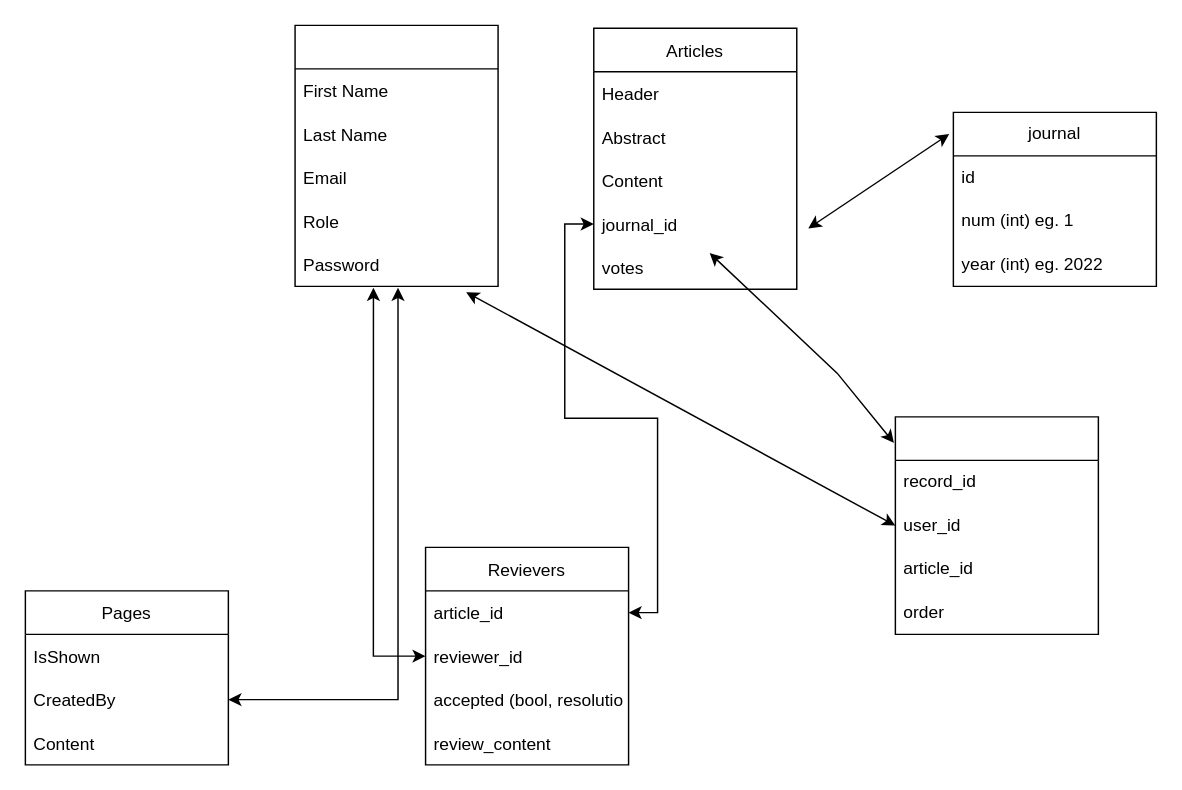
Image size: 1182x790. Some labels were removed from this diagram. Each missing label, with the box of its shape:
Authors: (894, 415, 1098, 634)
Users: (294, 24, 498, 286)
